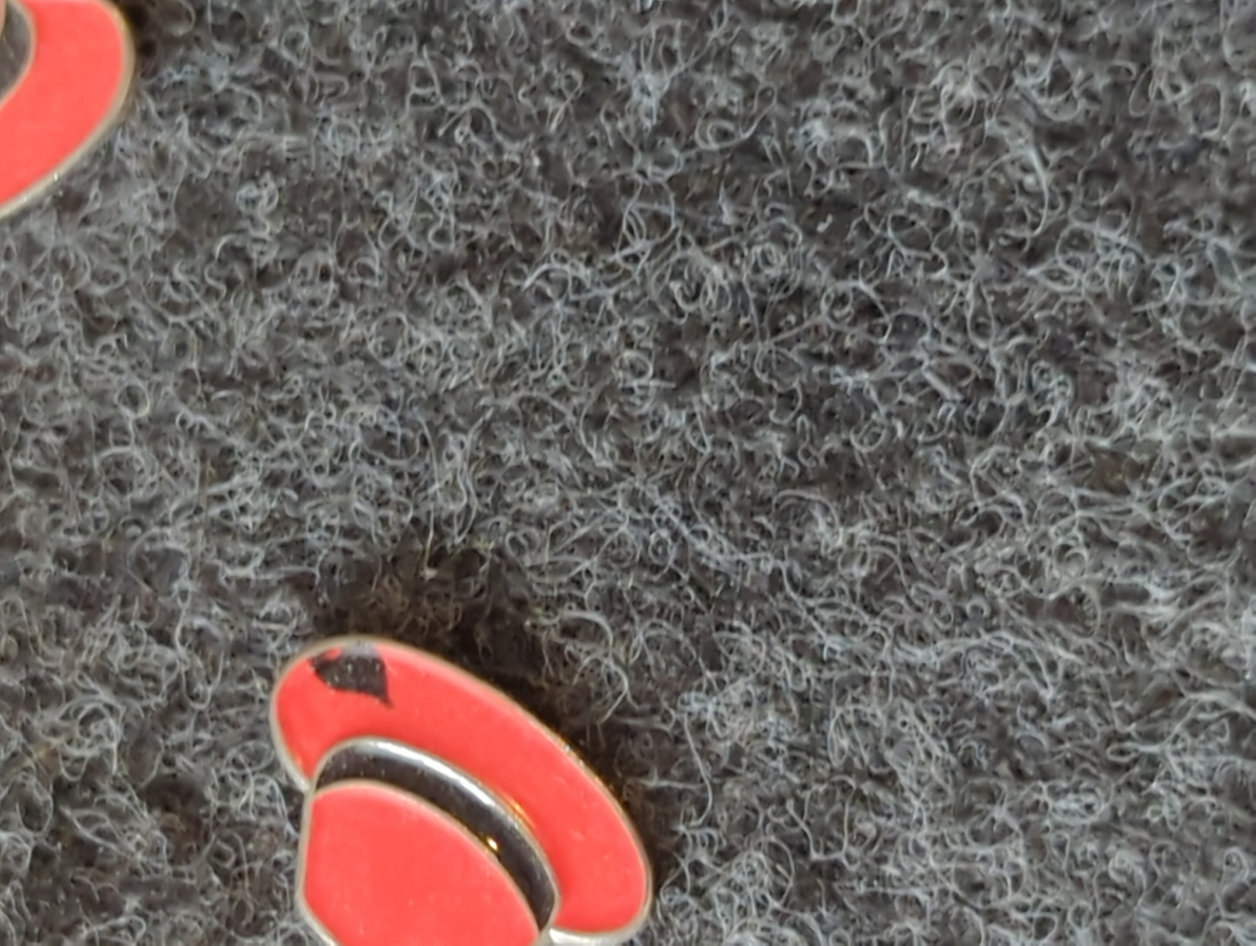Red-Hat: (171, 535, 770, 946)
Scratch: (255, 602, 410, 727)
